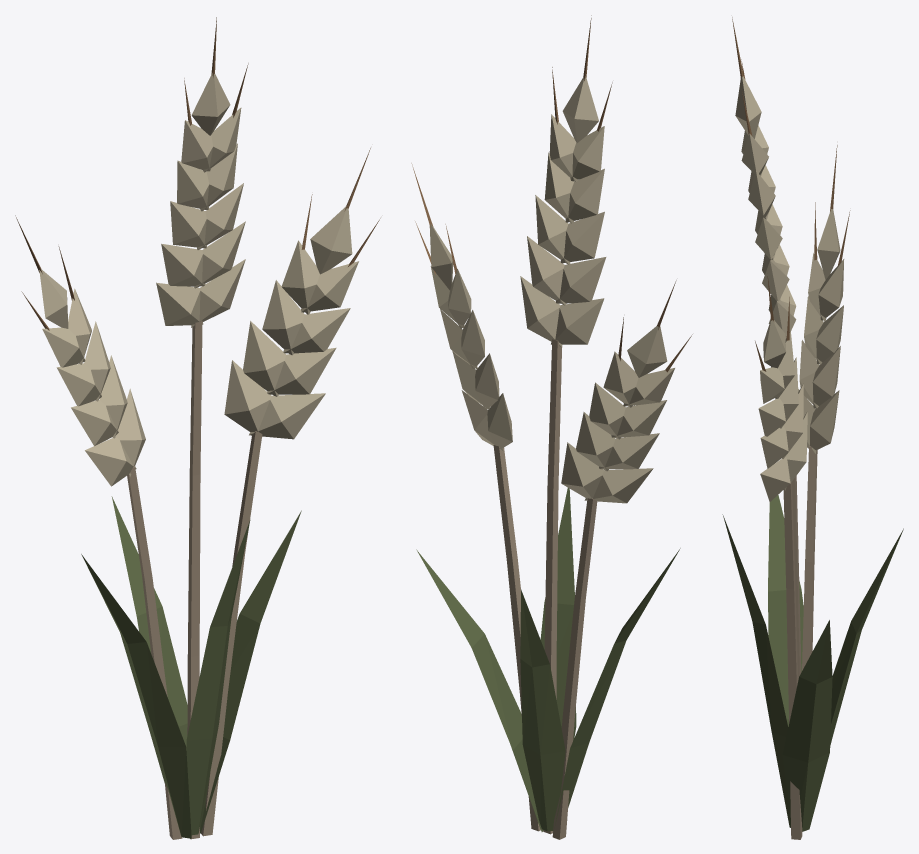
Rendered from wheat-plant.glb.
The picture shows the model from 3 angles, left to right: view 1: azimuth 30°, elevation 25°; view 2: azimuth 150°, elevation 25°; view 3: azimuth 270°, elevation 25°; orthographic projection. The views are drawn at different scales.
Visible parts, largest first — view 1: wheat-plant-mesh, yield-2-mesh, yield-0-mesh, yield-1-mesh; view 2: wheat-plant-mesh, yield-0-mesh, yield-1-mesh, yield-2-mesh; view 3: wheat-plant-mesh, yield-1-mesh, yield-2-mesh, yield-0-mesh.
Boxes of the visible parts, bbox=[...] form: wheat-plant-mesh: bbox=[81, 321, 301, 839]; yield-2-mesh: bbox=[224, 148, 380, 439]; yield-0-mesh: bbox=[156, 17, 248, 327]; yield-1-mesh: bbox=[15, 215, 145, 486]; wheat-plant-mesh: bbox=[416, 339, 680, 839]; yield-0-mesh: bbox=[520, 15, 612, 347]; yield-1-mesh: bbox=[561, 280, 692, 503]; yield-2-mesh: bbox=[411, 163, 512, 451]; wheat-plant-mesh: bbox=[722, 446, 903, 839]; yield-1-mesh: bbox=[798, 145, 850, 453]; yield-2-mesh: bbox=[755, 276, 807, 501]; yield-0-mesh: bbox=[732, 17, 796, 338].
Bounding box in the file's own units: 0.3641 × 0.8959 × 0.182.
